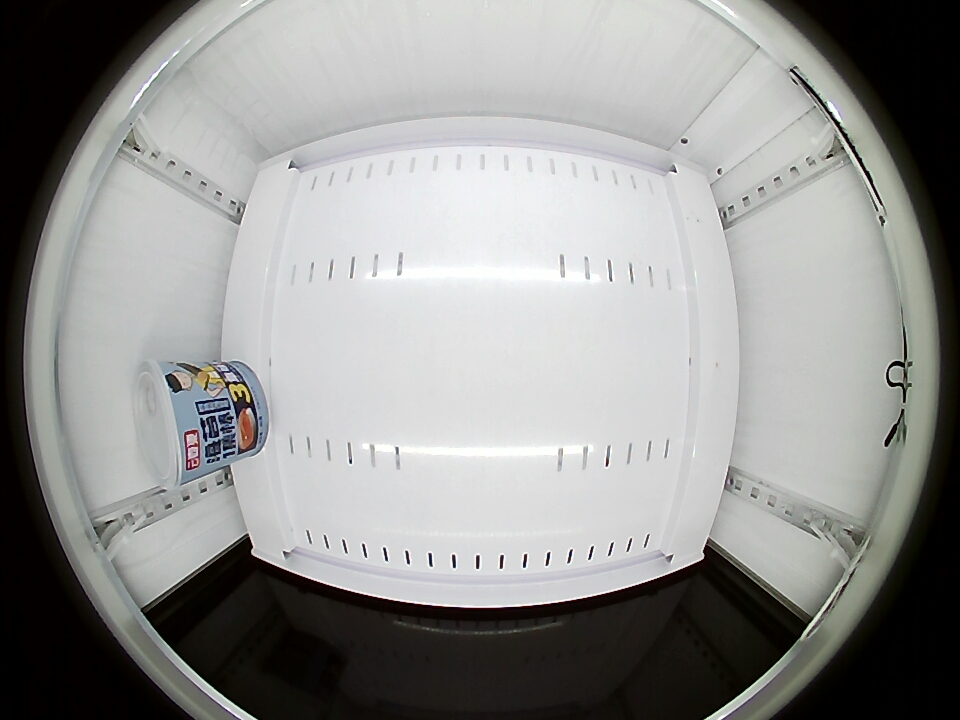haitai: (132, 359, 211, 490)
